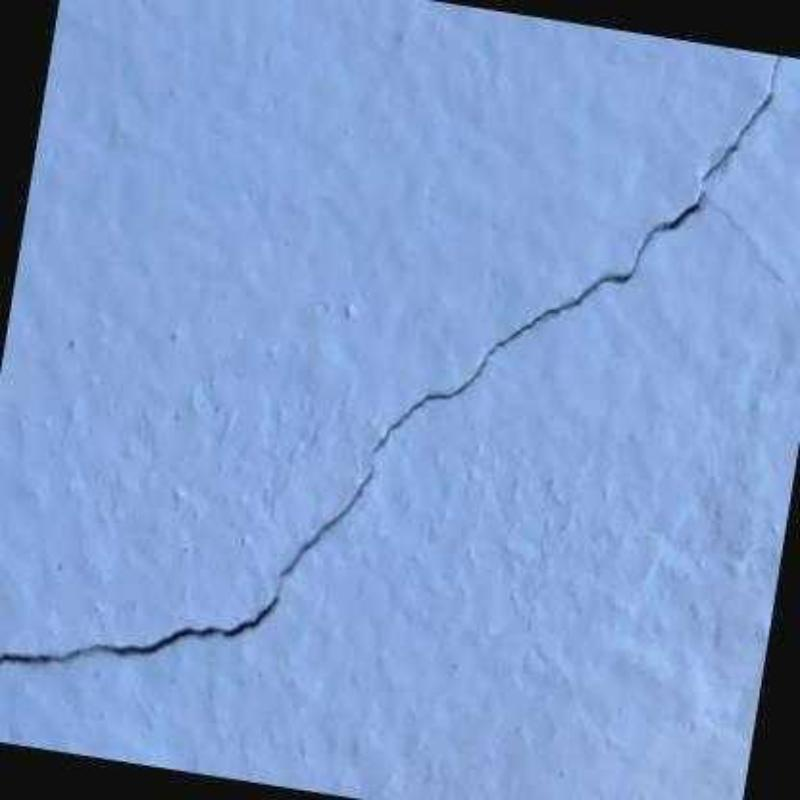crack: (1, 56, 783, 668), (706, 198, 783, 283)
